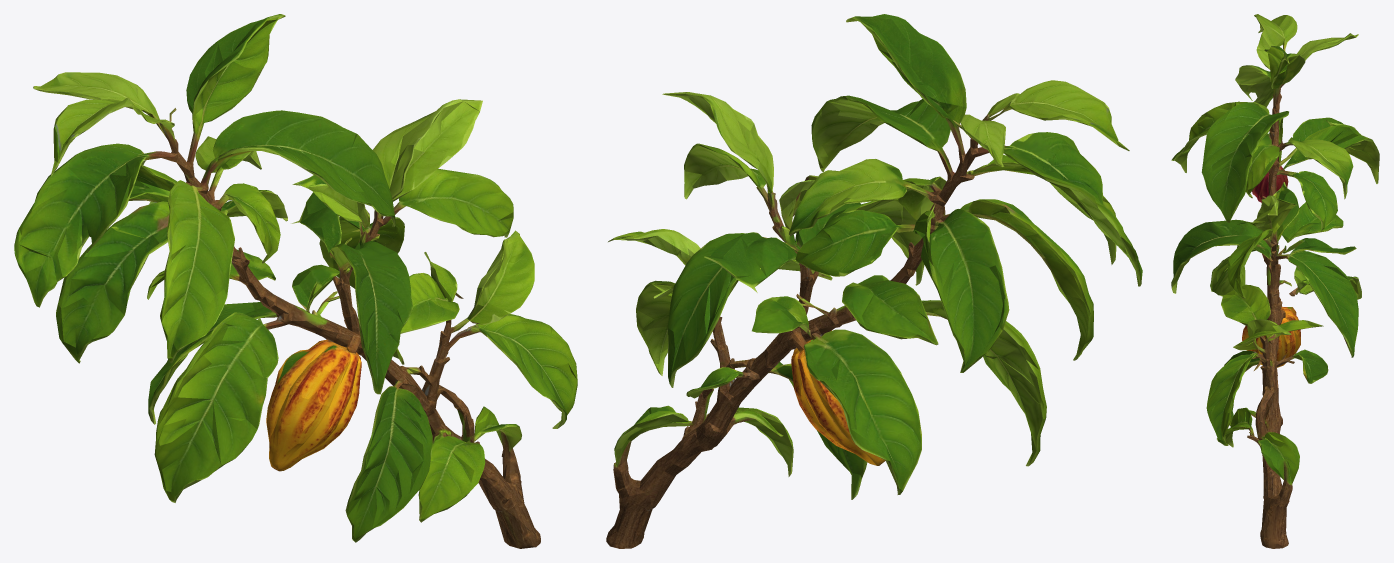
The model's file is Ecoandino_Rama_Izquierda_WebAR.glb.
3 renders of one model, left to right at view 1: azimuth 30°, elevation 25°; view 2: azimuth 150°, elevation 25°; view 3: azimuth 270°, elevation 25°, orthographic. The views are drawn at different scales.
Parts seen in each view (by area): view 1: output_unwrapped; view 2: output_unwrapped; view 3: output_unwrapped.
Part boxes in pixels (x1,y1,x2,y2): output_unwrapped: (14, 14, 577, 548); output_unwrapped: (606, 14, 1142, 548); output_unwrapped: (1171, 14, 1379, 548).
Size of the model in its own units: 1.8 by 1.9 by 0.881.
Materials: 1 (1 with a texture image).
